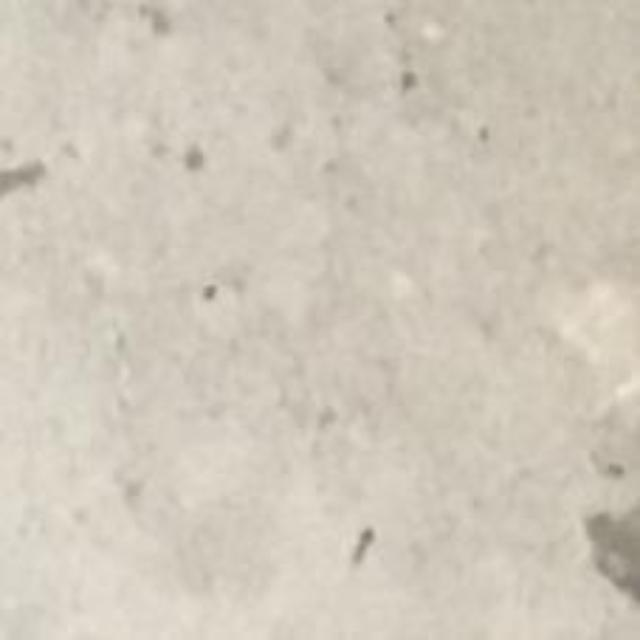peeling plaster: (587, 502, 639, 606)
